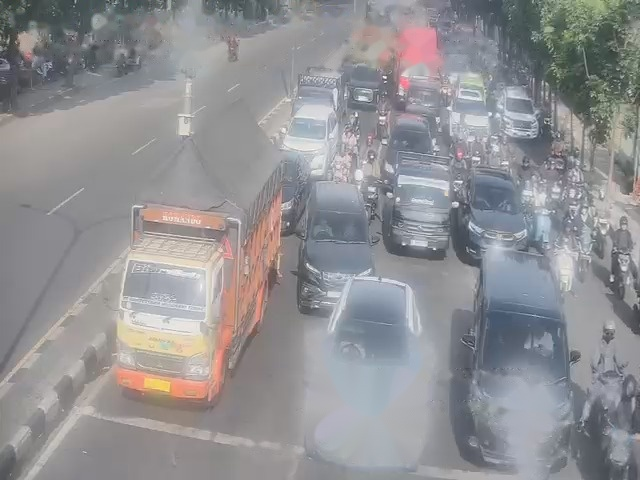Mobil: (480, 254, 569, 431), (331, 266, 419, 443), (301, 178, 375, 314), (463, 162, 529, 256), (391, 161, 444, 248), (292, 100, 329, 173), (297, 62, 341, 112), (502, 85, 536, 139), (446, 94, 493, 133), (281, 144, 304, 222), (351, 57, 379, 111), (353, 163, 360, 181)
Motor: (607, 425, 640, 477), (601, 376, 617, 417), (560, 251, 576, 285), (613, 253, 629, 285), (536, 211, 552, 243), (366, 178, 381, 206), (577, 233, 591, 262), (596, 209, 607, 238), (330, 162, 343, 184), (378, 111, 390, 132), (455, 171, 463, 194), (471, 150, 481, 167), (524, 181, 532, 201), (552, 183, 560, 202), (558, 152, 564, 169)
Truk: (125, 96, 283, 403)
